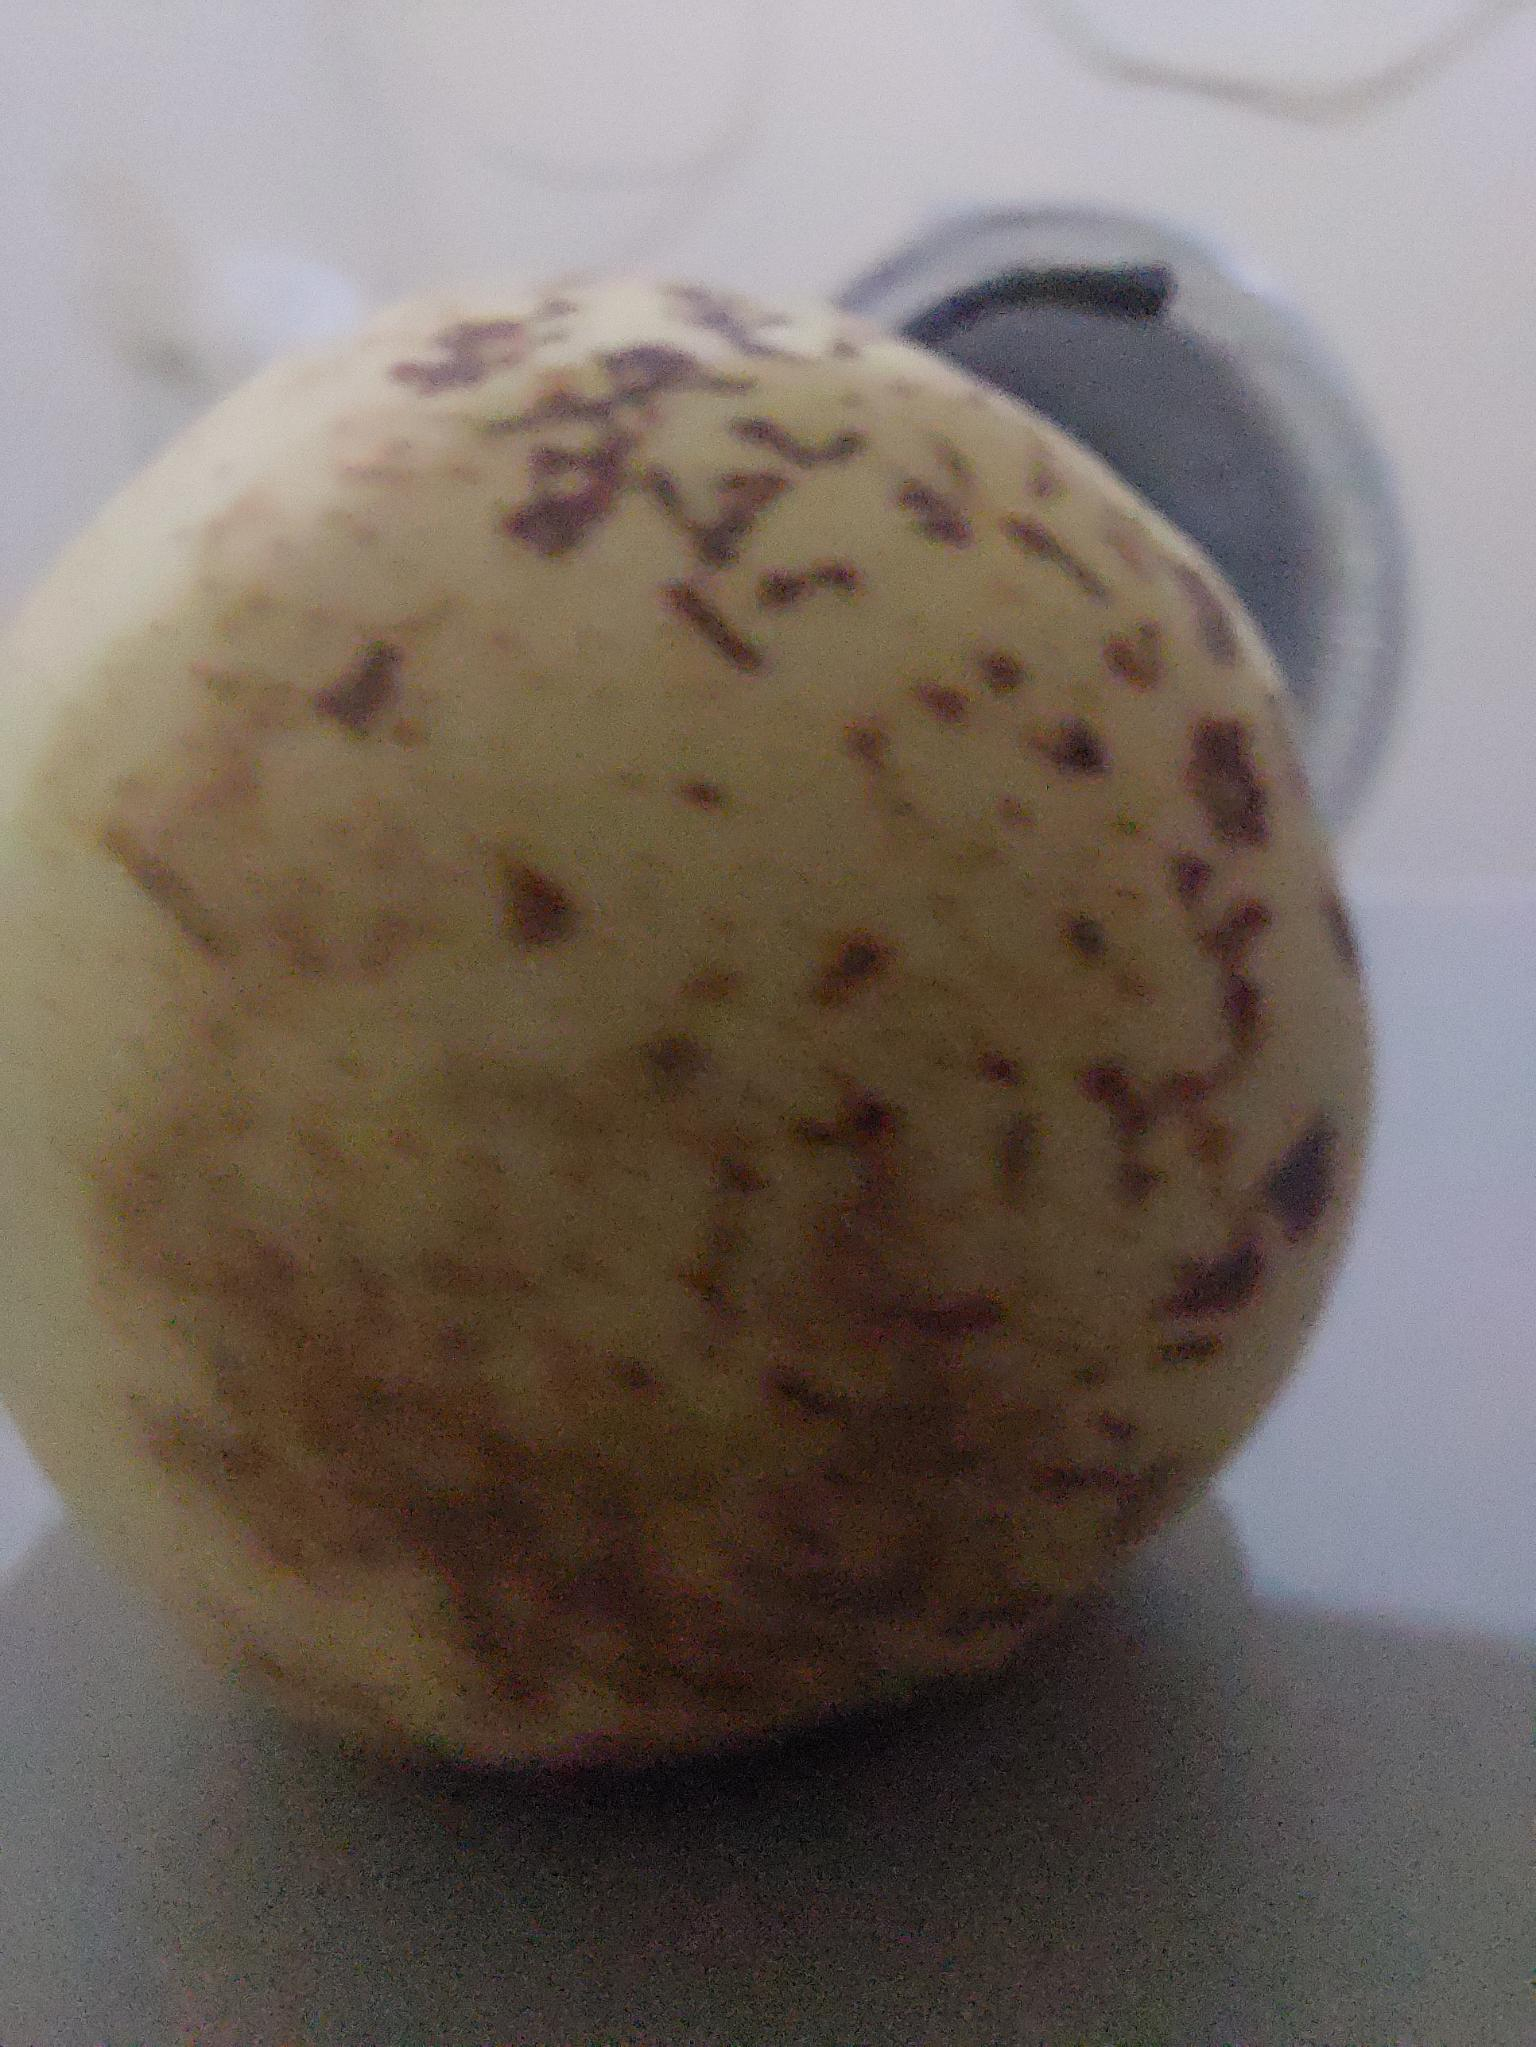Bad Pear: (0, 236, 1404, 1771)
